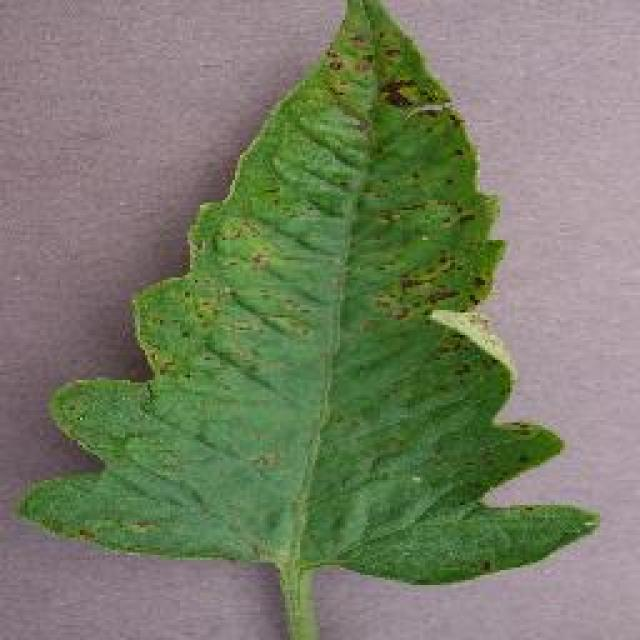Tomato___Septoria_leaf_spot: (20, 0, 598, 638)
